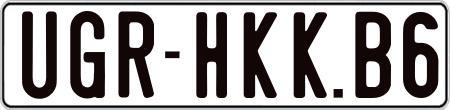6: (401, 12, 432, 102)
B: (353, 10, 393, 101)
G: (68, 10, 106, 102)
H: (194, 12, 230, 102)
K: (293, 10, 332, 97), (242, 10, 275, 99)
R: (115, 8, 156, 96)
U: (22, 11, 57, 100)
